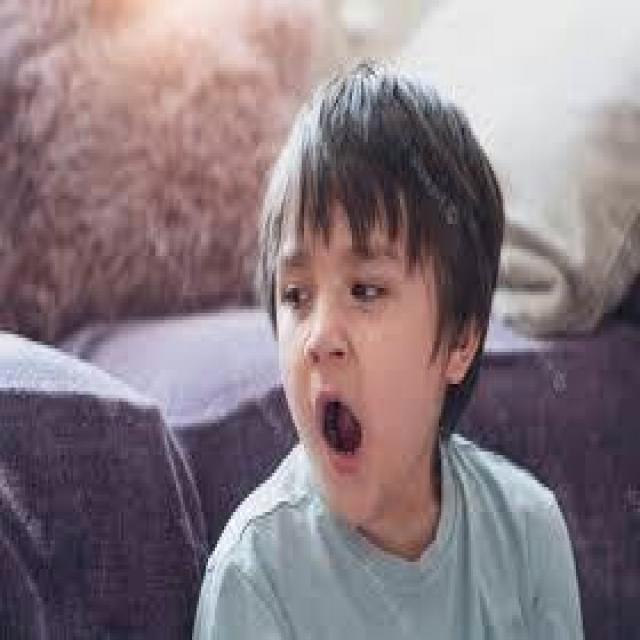child: (199, 64, 583, 637)
